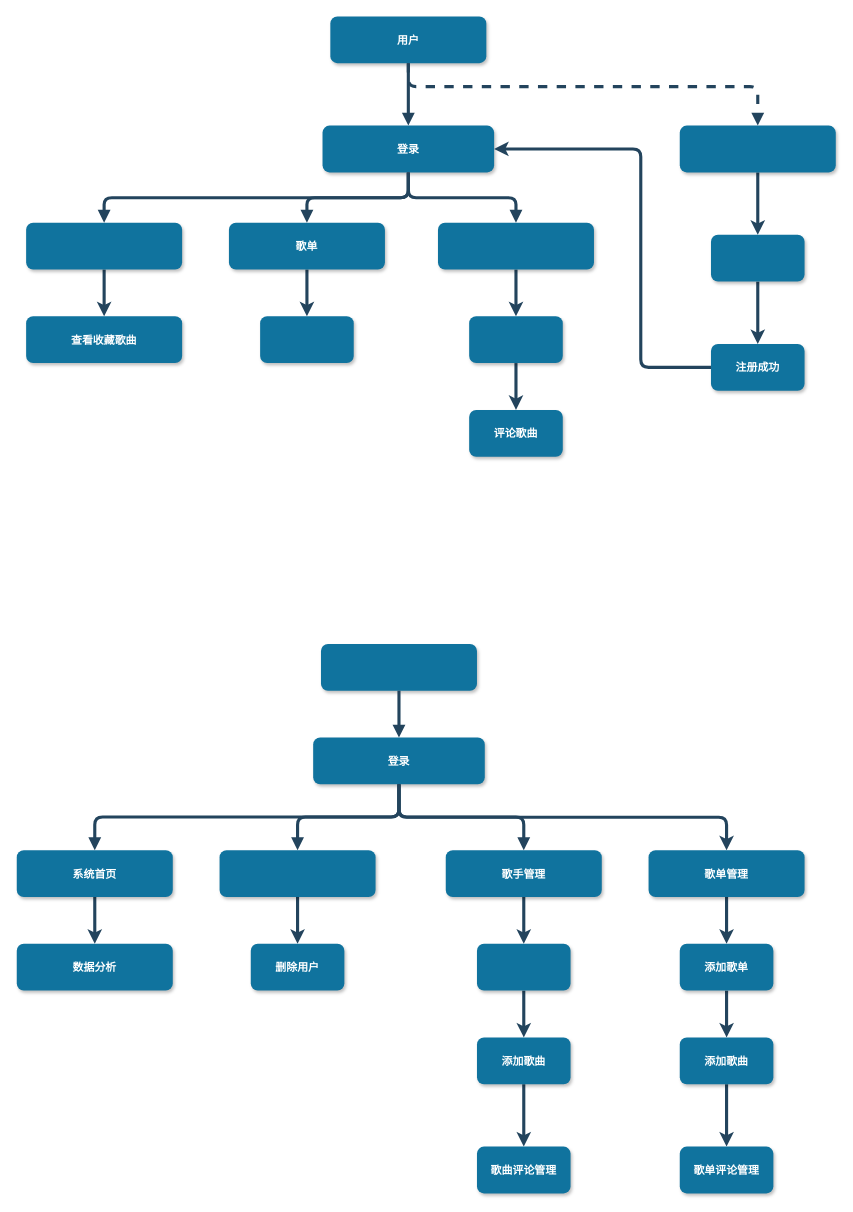
Image size: 853x1212. Some labels were removed from this diagram. Here are the shapes that lost their labels. From the top down, the centre of each, then its label:
(x=758, y=149): 注册
(x=104, y=247): 个人详情
(x=516, y=247): 歌手
(x=758, y=259): 填写信息
(x=307, y=340): 评论歌单
(x=516, y=340): 歌曲
(x=399, y=668): 后台管理员
(x=298, y=874): 用户管理
(x=524, y=968): 添加歌手
